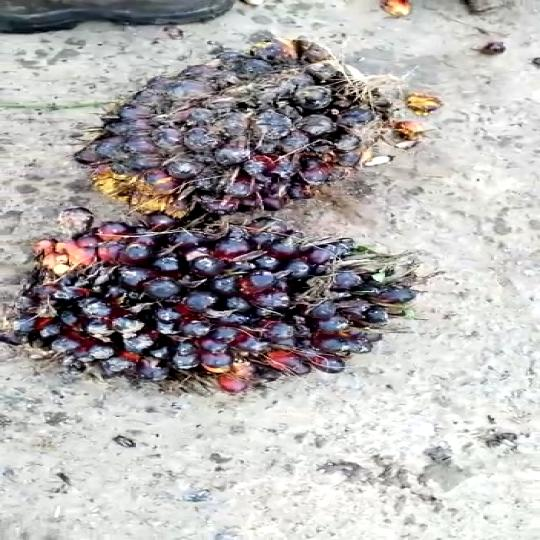kurang masak: (0, 200, 414, 405), (74, 26, 412, 214)
